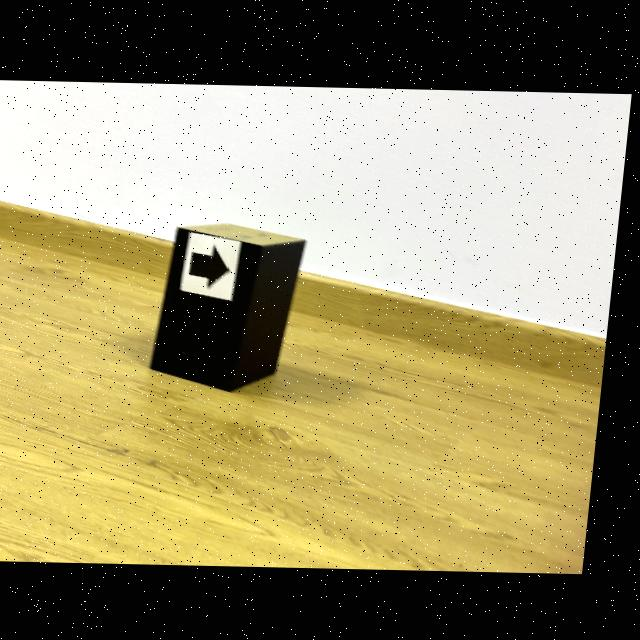RIGHT: (195, 246, 234, 285)
